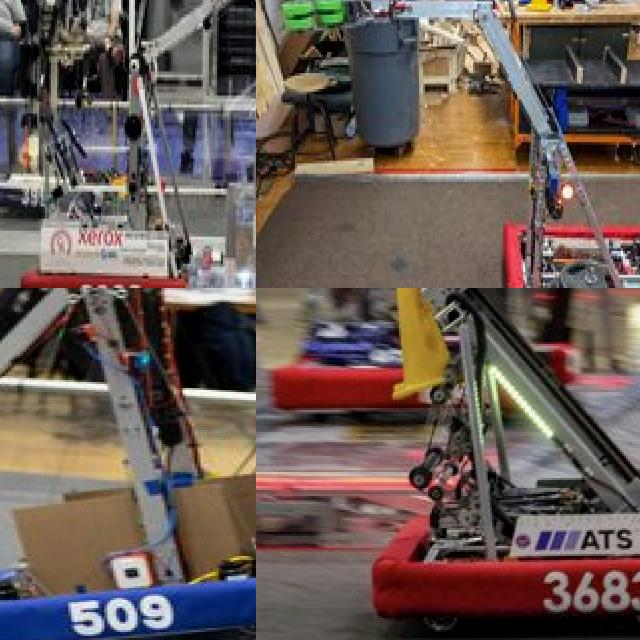FRC-Robots: (263, 0, 640, 288), (334, 288, 640, 640), (0, 288, 256, 640), (3, 0, 256, 288), (261, 288, 640, 417), (195, 378, 256, 580)
